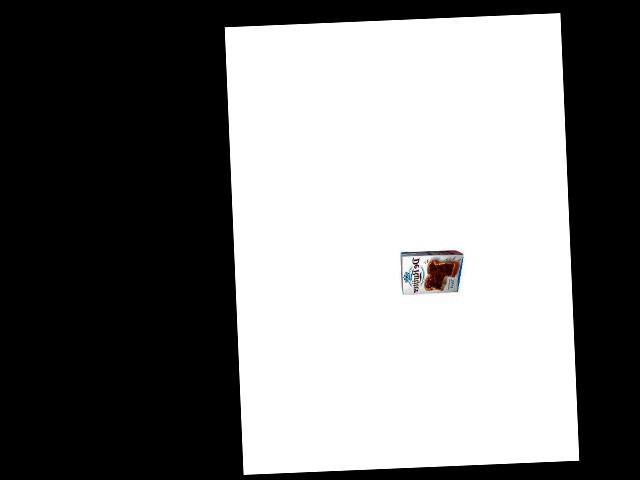chocolate: (396, 244, 463, 300)
